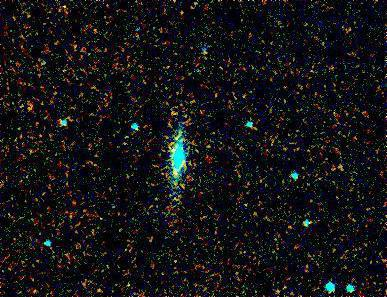star: (160, 155, 190, 185)
